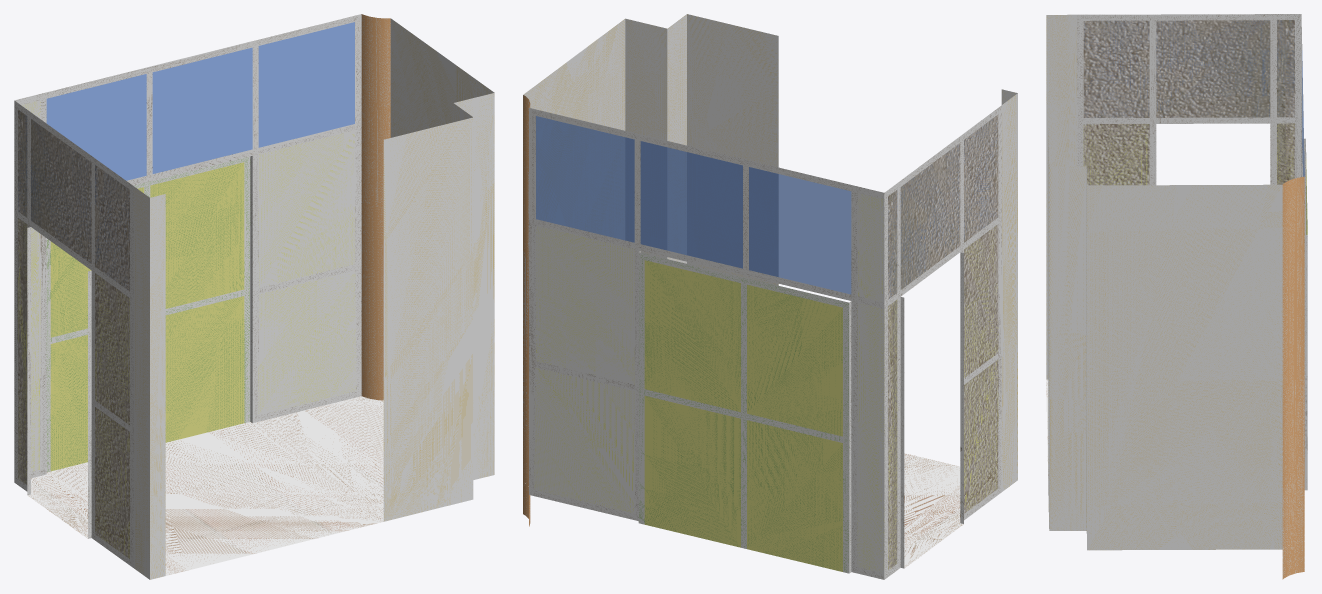
File: COM027.obj
3 renders of one model, left to right at view 1: azimuth 30°, elevation 25°; view 2: azimuth 150°, elevation 25°; view 3: azimuth 270°, elevation 25°, orthographic. The views are drawn at different scales.
Visible parts, largest first — view 1: Mesh1 COM027 Model; view 2: Mesh1 COM027 Model; view 3: Mesh1 COM027 Model.
Boxes of the visible parts, x1,y1,x2,y2 form: Mesh1 COM027 Model: (14, 14, 494, 579); Mesh1 COM027 Model: (523, 14, 1017, 579); Mesh1 COM027 Model: (1046, 14, 1307, 579).
Size of the model in its own units: 3.05 by 3.25 by 1.95.
9 materials, 2 textured.
